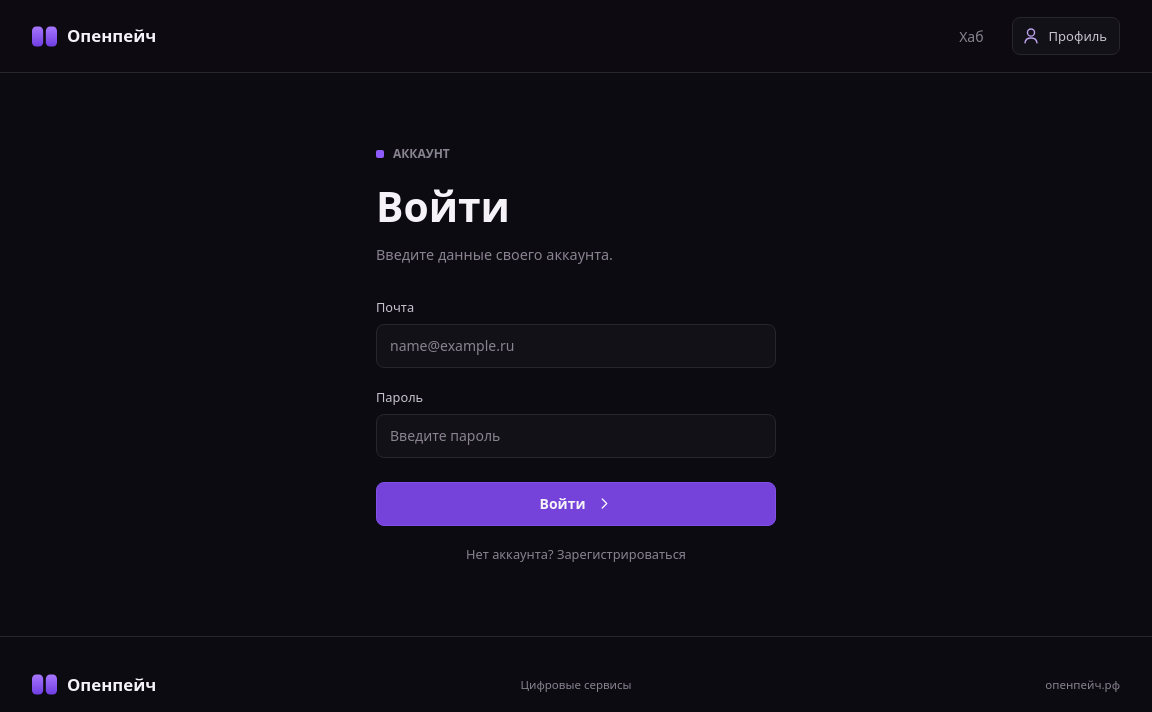
Test case: авторизация и маршруты › оставляет ошибку backend видимой и не создаёт сессию
expect the heading "Войти" is shown: met, box [376,178,510,234]
Type "anna@example.ru" into the field labelled "Почта".
click(576, 346); type("anna@example.ru")  # box [376,324,776,368]
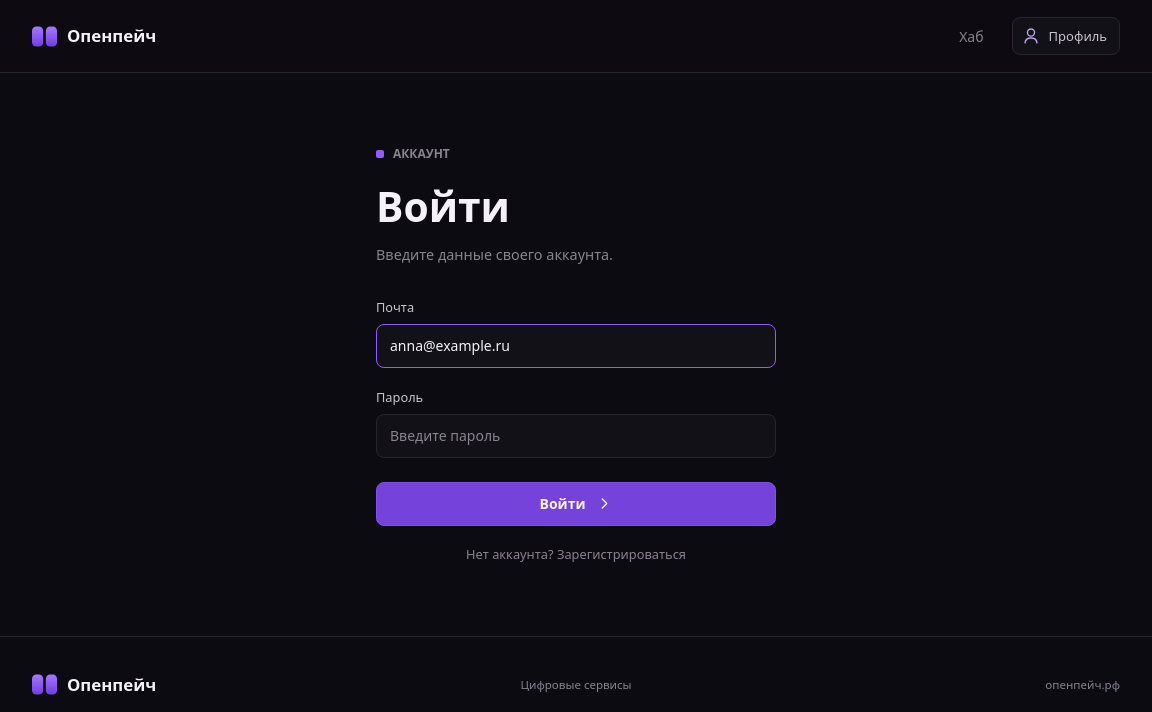
Type "secret-password" into the password field labelled "Пароль".
click(576, 436); type("secret-password")  # box [376,414,776,458]
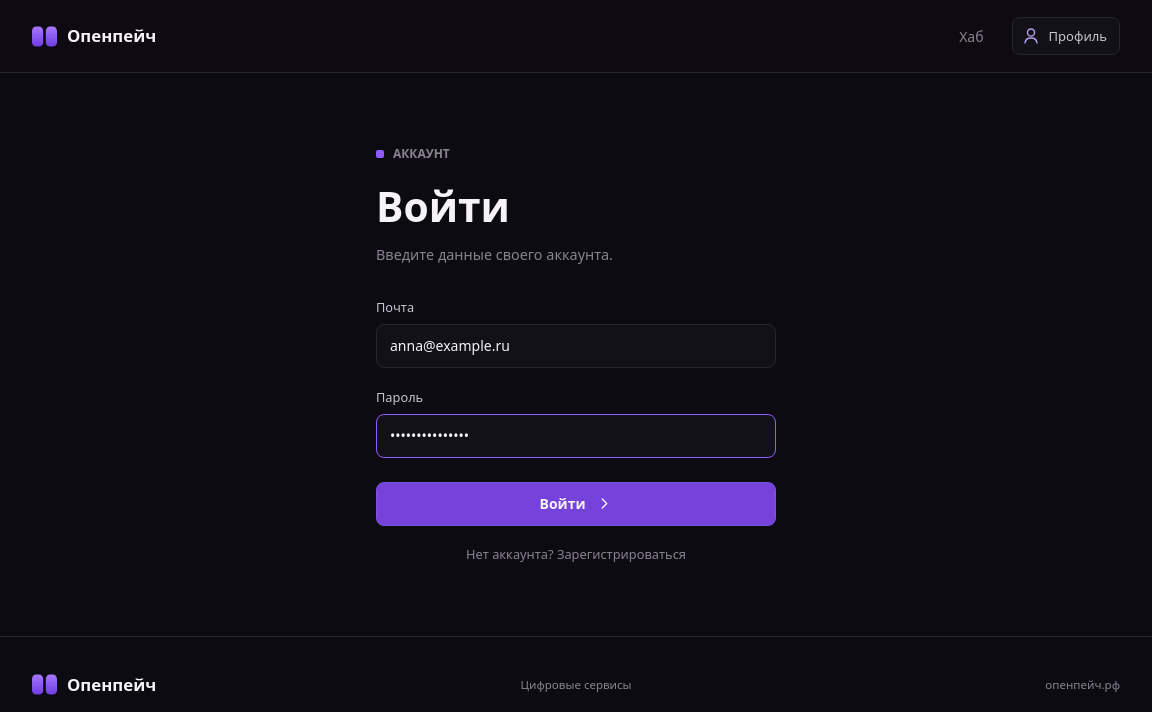
Click the button "Войти".
click(576, 504)  # box [376,482,776,526]
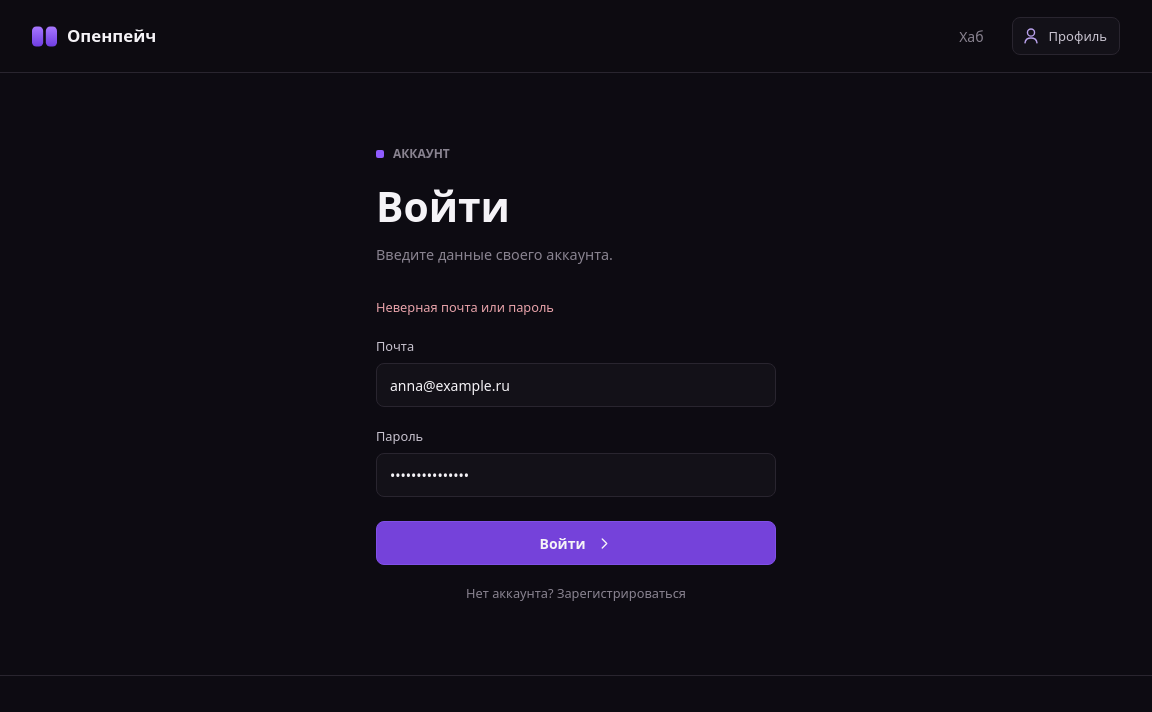
expect the heading "Войти" is shown: met, box [376,178,510,234]
expect the message reads "Неверная почта или пароль": met, box [376,298,554,316]
